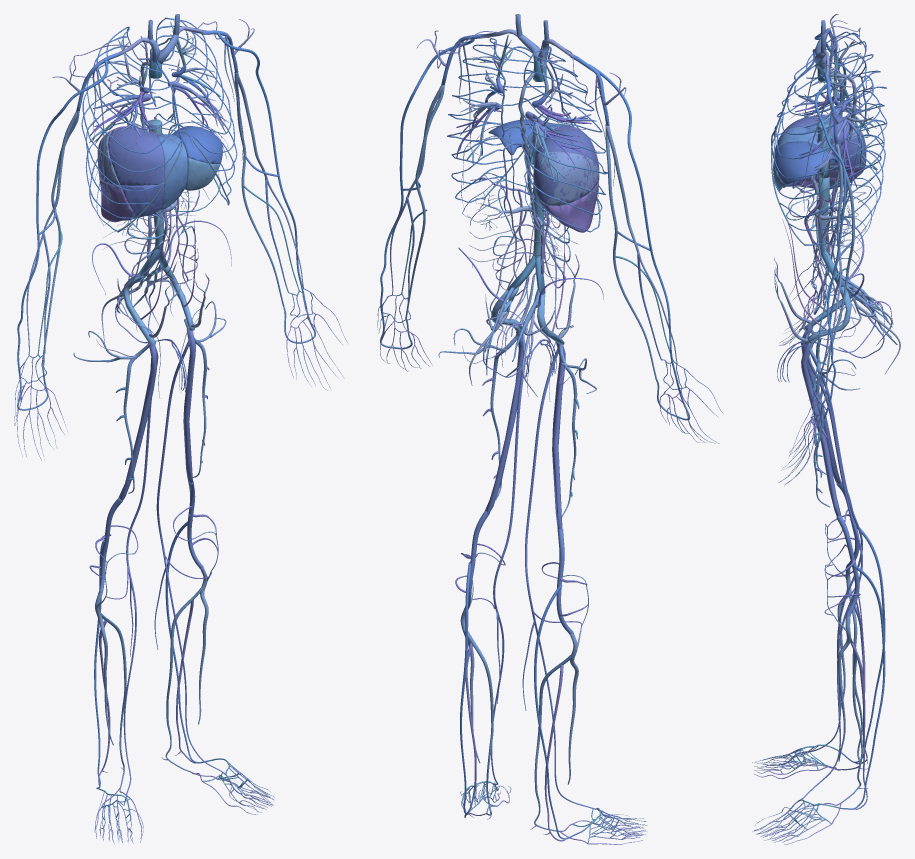
File: body-veins.lod1.glb
The picture shows the model from 3 angles, left to right: view 1: azimuth 30°, elevation 25°; view 2: azimuth 150°, elevation 25°; view 3: azimuth 270°, elevation 25°; orthographic projection. The views are drawn at different scales.
Parts seen in each view (by area): view 1: set-of-anterior-intercostal-veins, hepatovenous-segment-viii, hepatovenous-segment-iv, great-saphenous-vein-l, hepatovenous-segment-ii, great-saphenous-vein-r, cephalic-vein-r, femoral-vein-r, femoral-vein-l, hepatovenous-segment-v, hepatovenous-segment-vii, cephalic-vein-l (+6 smaller); view 2: set-of-anterior-intercostal-veins, hepatovenous-segment-viii, hepatovenous-segment-ix, great-saphenous-vein-r, great-saphenous-vein-l, femoral-vein-r, hepatovenous-segment-vii, femoral-vein-l, cephalic-vein-r, cephalic-vein-l, basilic-vein-r, small-saphenous-vein-r (+5 smaller); view 3: set-of-anterior-intercostal-veins, hepatovenous-segment-ii, great-saphenous-vein-l, femoral-vein-l, hepatovenous-segment-viii, cephalic-vein-l, great-saphenous-vein-r, inferior-vena-cava, small-saphenous-vein-l, set-of-plantar-digital-veins, basilic-vein-l, femoral-vein-r (+19 smaller).
Part boxes in pixels (left/top/right/bottom): set-of-anterior-intercostal-veins: left=81, top=17, right=237, bottom=231; hepatovenous-segment-viii: left=97, top=126, right=164, bottom=185; hepatovenous-segment-iv: left=157, top=134, right=187, bottom=209; great-saphenous-vein-l: left=154, top=336, right=222, bottom=771; hepatovenous-segment-ii: left=172, top=126, right=222, bottom=163; great-saphenous-vein-r: left=123, top=345, right=158, bottom=795; cephalic-vein-r: left=17, top=59, right=108, bottom=378; femoral-vein-r: left=118, top=338, right=156, bottom=500; femoral-vein-l: left=183, top=329, right=195, bottom=483; hepatovenous-segment-v: left=120, top=184, right=164, bottom=217; hepatovenous-segment-vii: left=99, top=178, right=134, bottom=222; cephalic-vein-l: left=217, top=31, right=307, bottom=309; set-of-anterior-intercostal-veins: left=447, top=38, right=607, bottom=244; hepatovenous-segment-viii: left=533, top=125, right=599, bottom=204; hepatovenous-segment-ix: left=536, top=151, right=599, bottom=206; great-saphenous-vein-r: left=522, top=349, right=593, bottom=808; great-saphenous-vein-l: left=490, top=341, right=526, bottom=784; femoral-vein-r: left=552, top=342, right=565, bottom=531; hepatovenous-segment-vii: left=541, top=178, right=599, bottom=232; femoral-vein-l: left=485, top=329, right=523, bottom=514; cephalic-vein-r: left=589, top=64, right=680, bottom=393; cephalic-vein-l: left=380, top=39, right=474, bottom=321; basilic-vein-r: left=605, top=125, right=656, bottom=379; small-saphenous-vein-r: left=534, top=584, right=582, bottom=839; set-of-anterior-intercostal-veins: left=773, top=31, right=887, bottom=248; hepatovenous-segment-ii: left=774, top=141, right=837, bottom=184; great-saphenous-vein-l: left=801, top=356, right=863, bottom=799; femoral-vein-l: left=801, top=342, right=841, bottom=516; hepatovenous-segment-viii: left=780, top=114, right=866, bottom=165; cephalic-vein-l: left=814, top=83, right=846, bottom=418; great-saphenous-vein-r: left=802, top=330, right=863, bottom=752; inferior-vena-cava: left=816, top=122, right=830, bottom=254; small-saphenous-vein-l: left=842, top=565, right=885, bottom=809; set-of-plantar-digital-veins: left=754, top=760, right=831, bottom=844; basilic-vein-l: left=824, top=143, right=854, bottom=399; femoral-vein-r: left=801, top=325, right=841, bottom=486.
Size of the model in its own units: 0.6486 by 1.46 by 0.2536.
